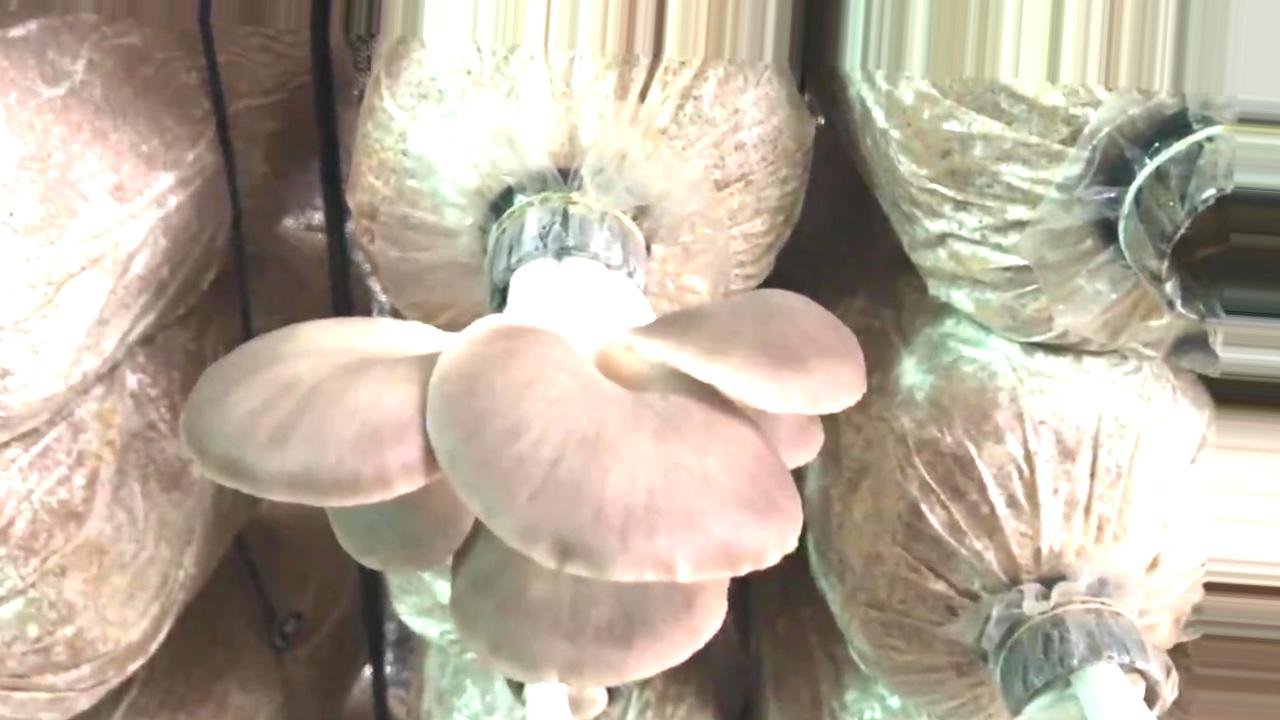nam: (183, 195, 866, 686), (1007, 602, 1182, 720)
